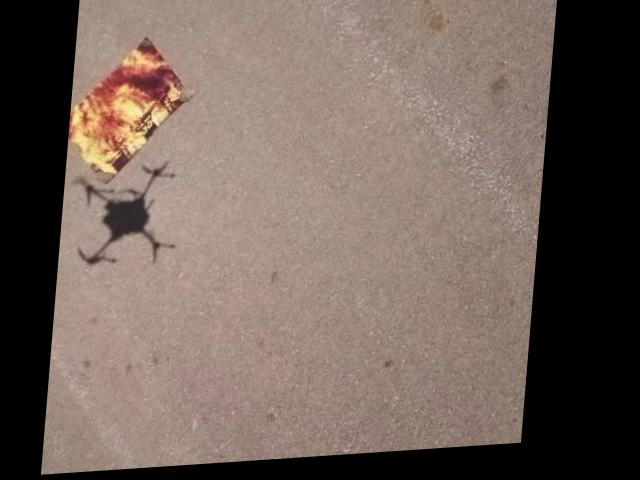fire-poster: (68, 34, 202, 186)
